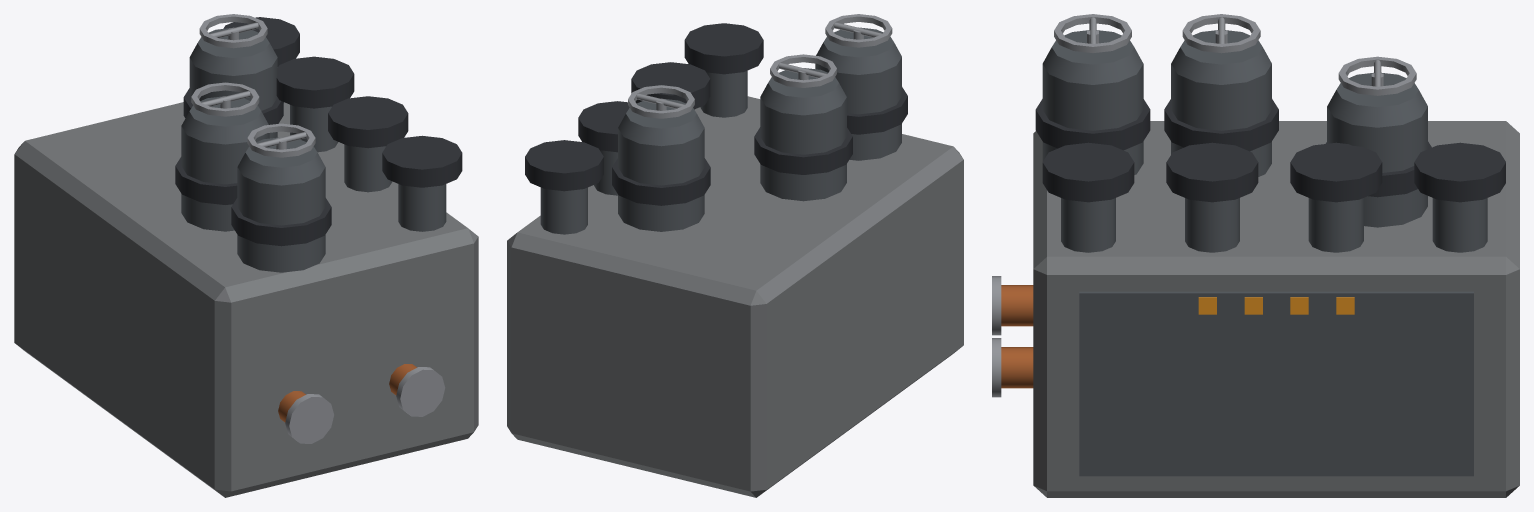
File: cl180_valves.obj
The picture shows the model from 3 angles, left to right: view 1: azimuth 30°, elevation 25°; view 2: azimuth 150°, elevation 25°; view 3: azimuth 270°, elevation 25°; orthographic projection. The views are drawn at different scales.
Parts seen in each view (by area): view 1: cl180_valves; view 2: cl180_valves; view 3: cl180_valves.
Boxes of the visible parts, box(x1,y1,x2,y2) form: cl180_valves: box(14, 14, 478, 497); cl180_valves: box(507, 14, 963, 497); cl180_valves: box(992, 14, 1519, 497).
Size of the model in its own units: 0.772 by 0.9 by 1.15.
